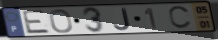1: (144, 7, 158, 30)
3: (82, 6, 105, 35)
C: (167, 5, 193, 30)
E: (21, 9, 52, 35)
J: (113, 7, 132, 32)
O: (48, 8, 74, 34)
